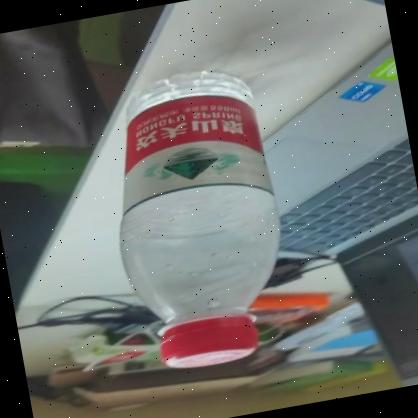bottle: (96, 52, 315, 378)
cap: (155, 309, 268, 376)
label: (96, 88, 287, 214)
